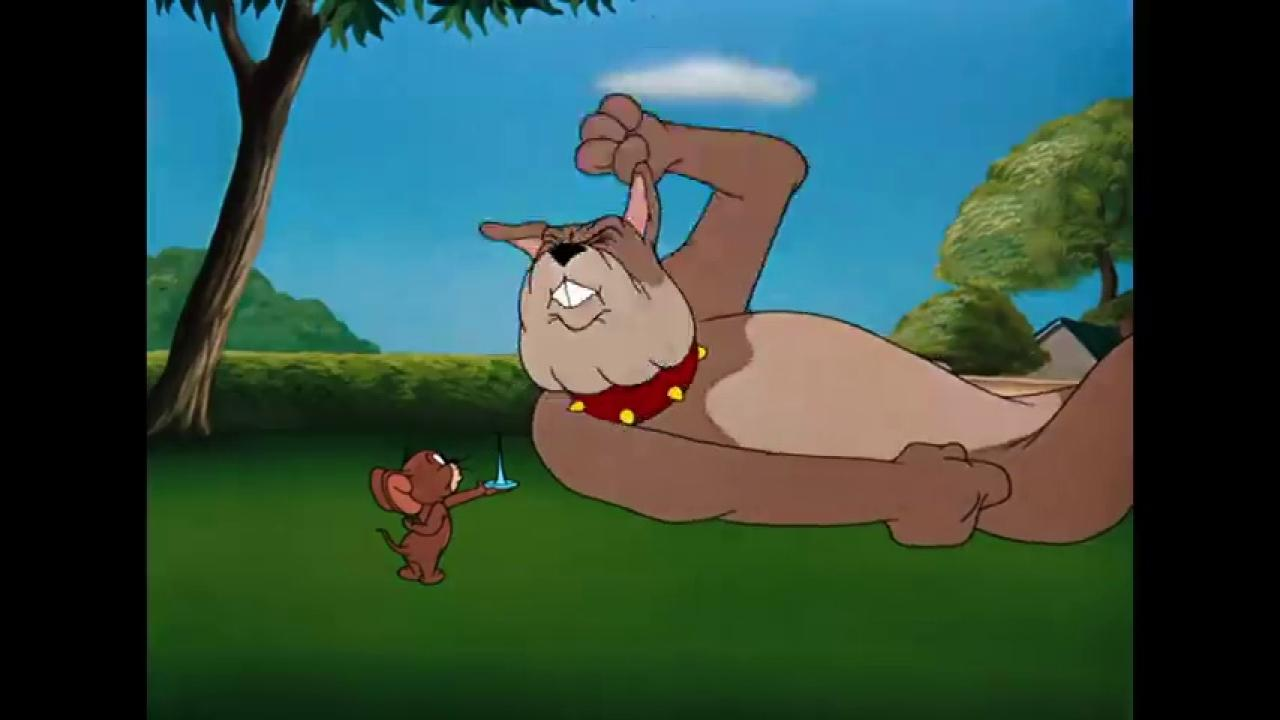Jerry: (366, 445, 498, 587)
